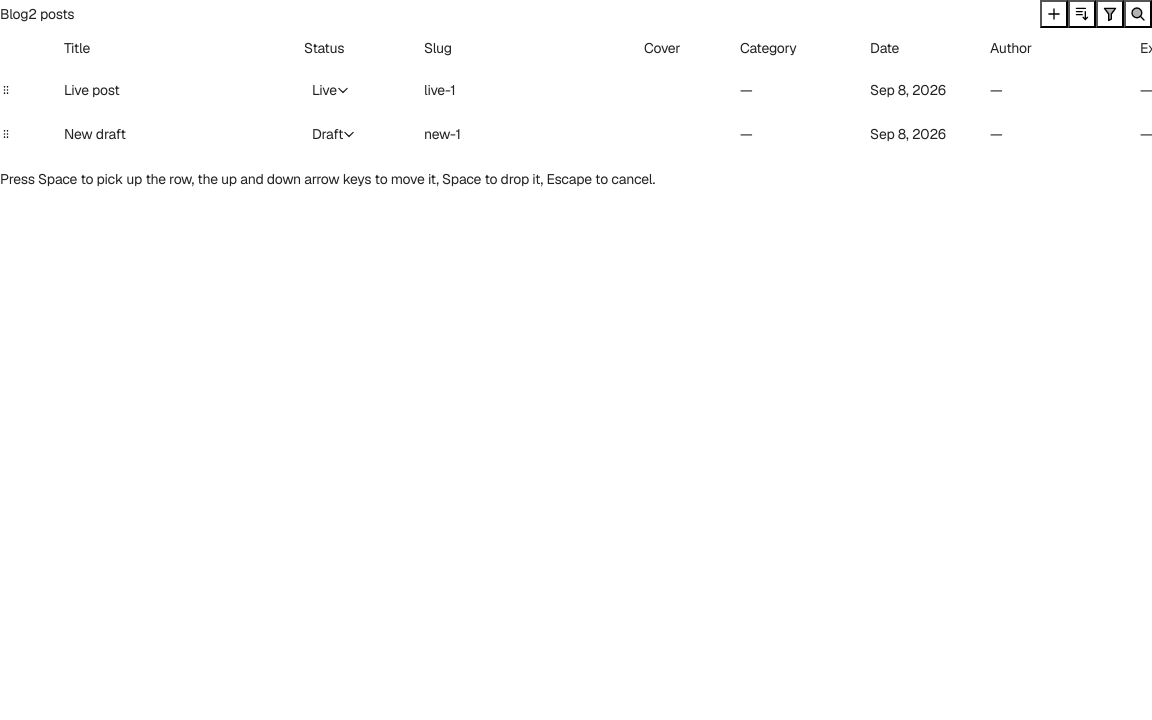
Test case: CollectionScreen (C3) — FOLLOWUPS #31 › Unpublish d’un élément en ligne : programmé au moteur (publish.stage), statut « Unpublishing », refresh
Click the button "Live": (329, 90) [304, 80, 355, 100]
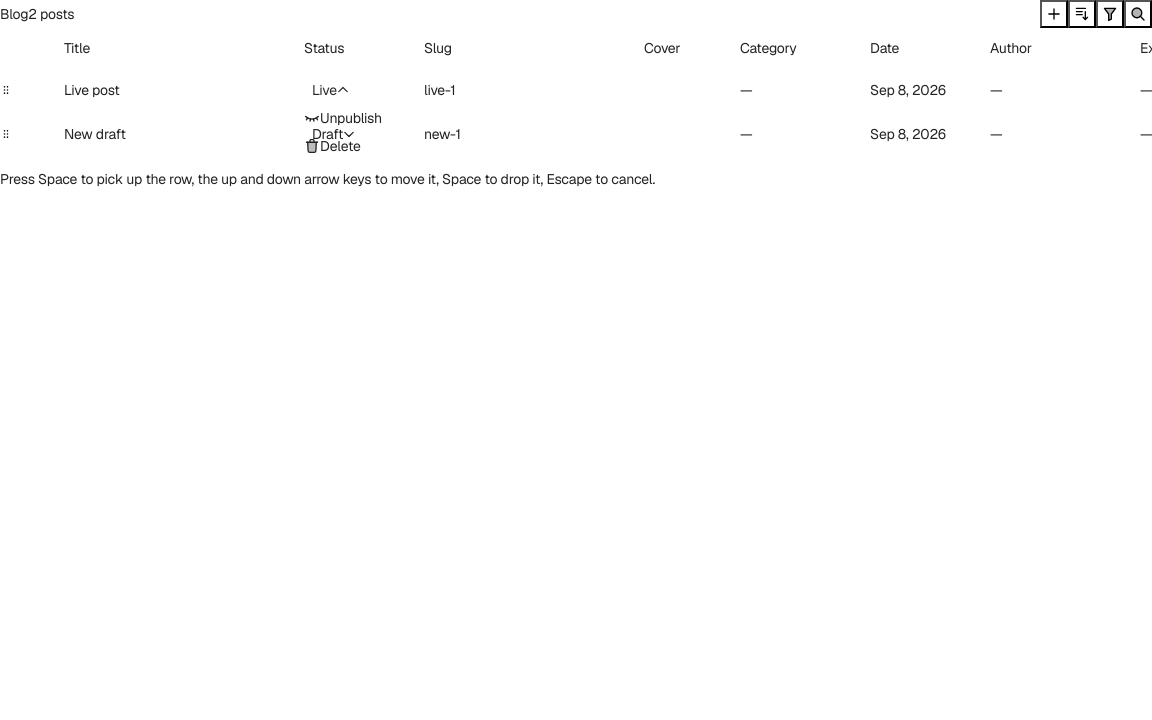
Click the menu item "Unpublish": (343, 118) [304, 109, 382, 127]
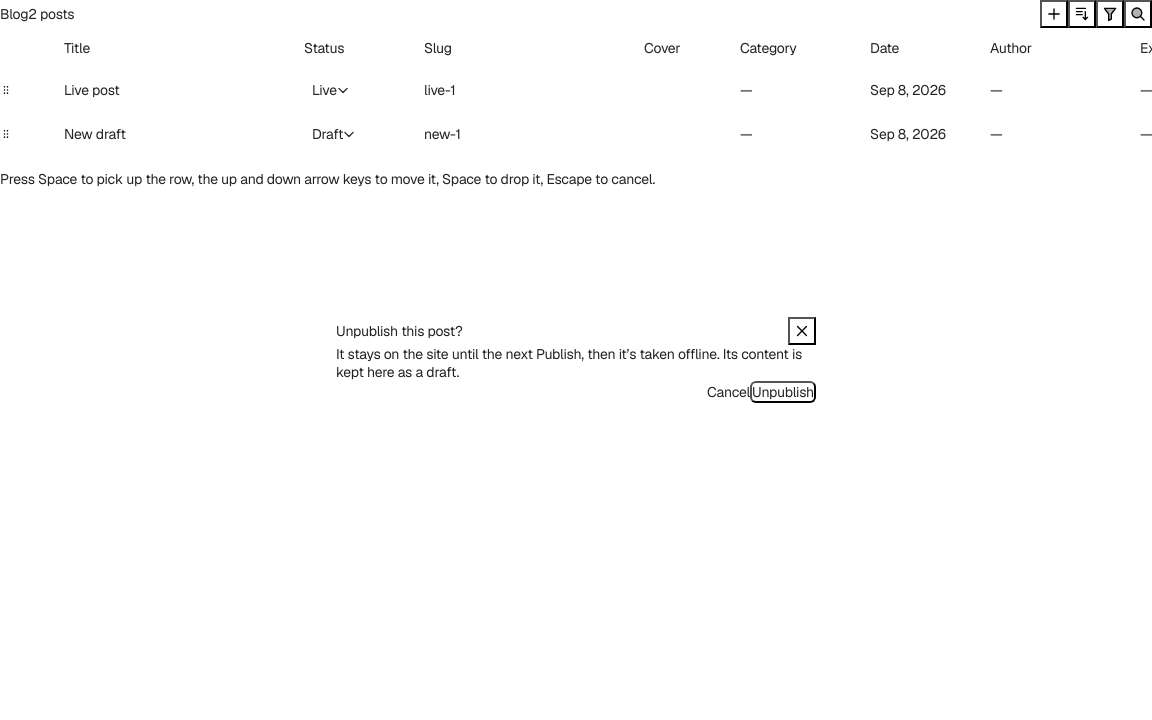
Click the button "Unpublish": (783, 392) [750, 381, 816, 403]
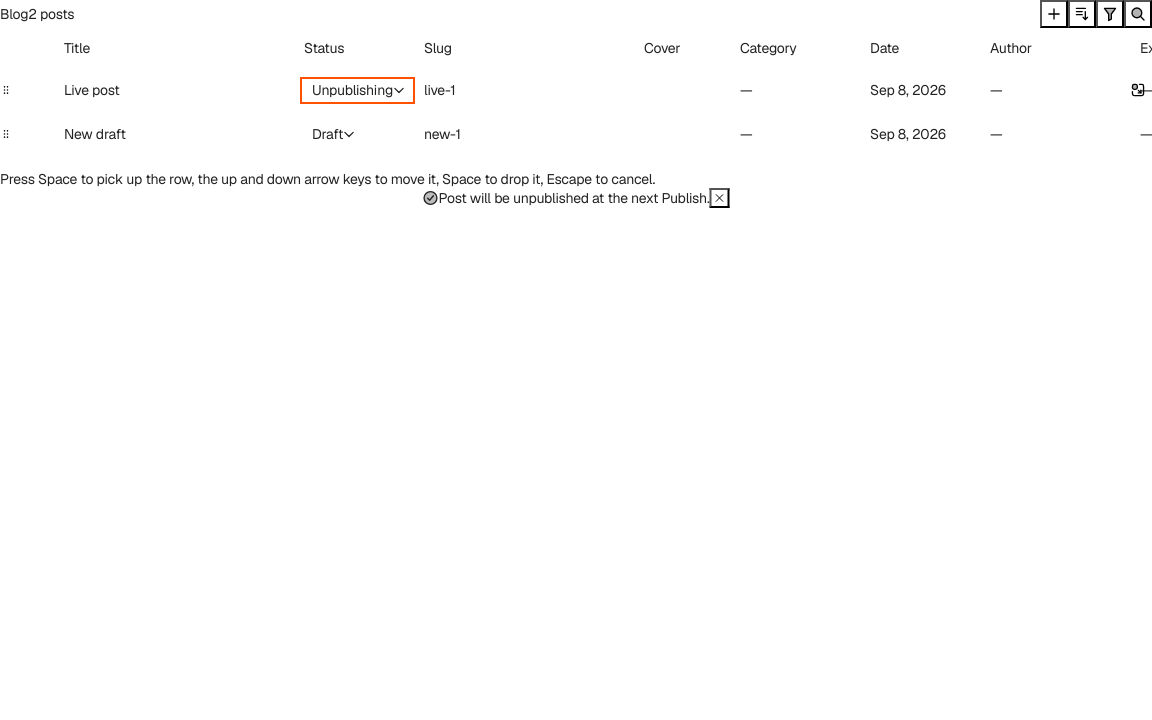
Expected: the button with aria-label "Status: Unpublishing" is shown, [304, 80, 411, 100]
